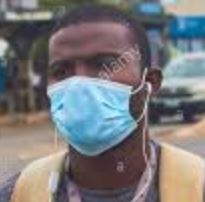with_facemask: (46, 81, 140, 157)
